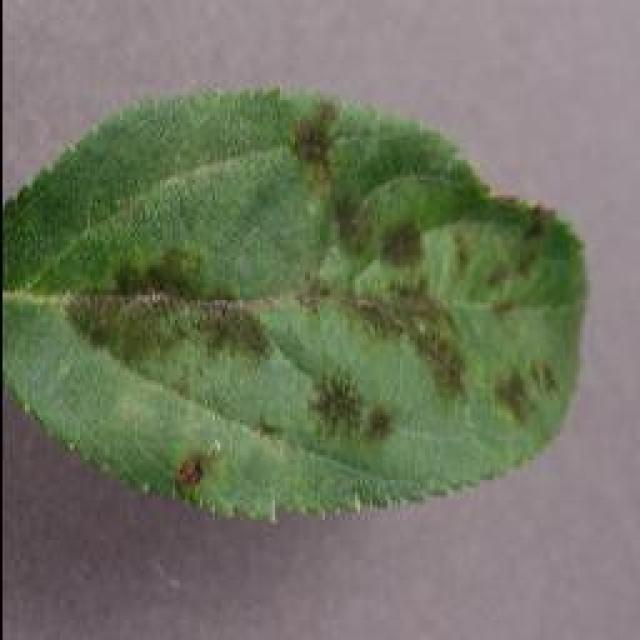apple scab disease: (0, 83, 590, 525)
